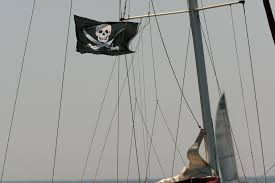Jolly Roger Flag: (72, 16, 143, 56)
